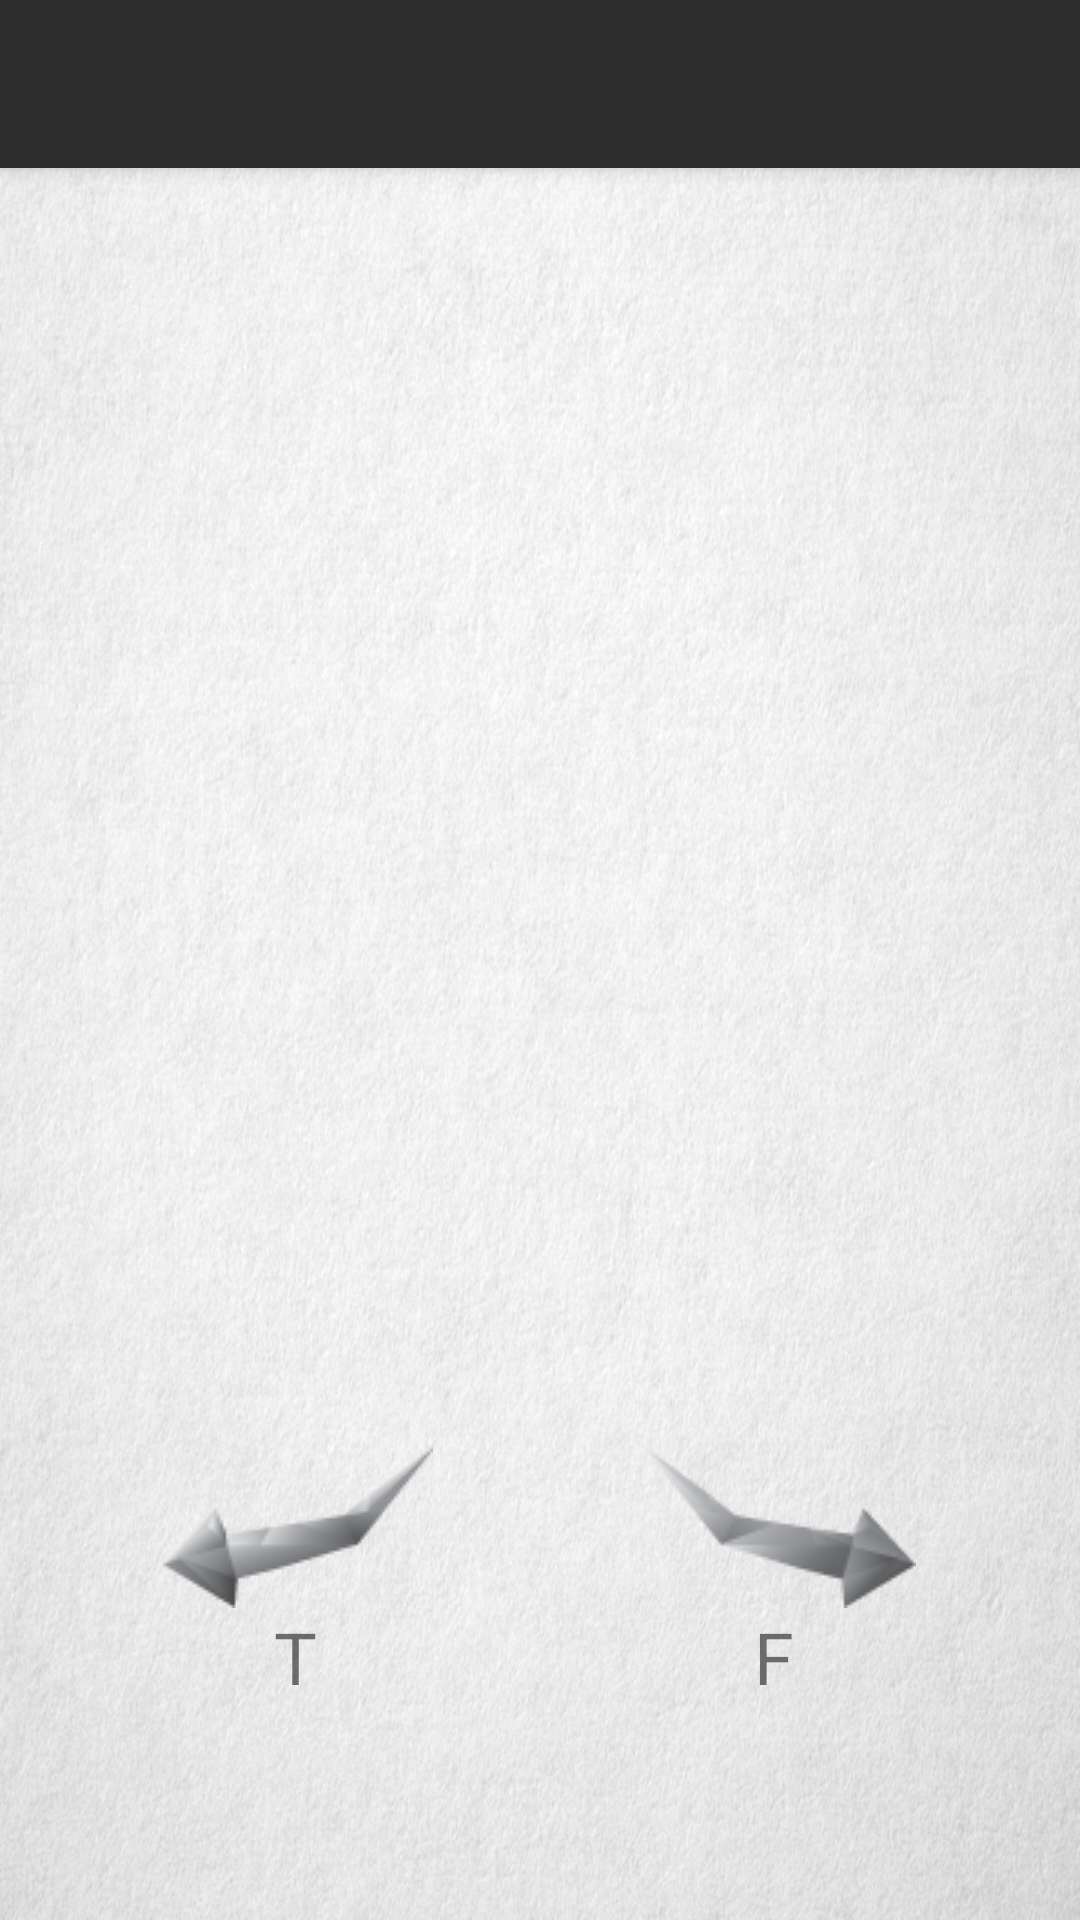

Icons on this 1080 x 1920 Android screen, each with the point to tap as (x,y):
arrow false: (786,1532)
arrow true: (298,1528)
